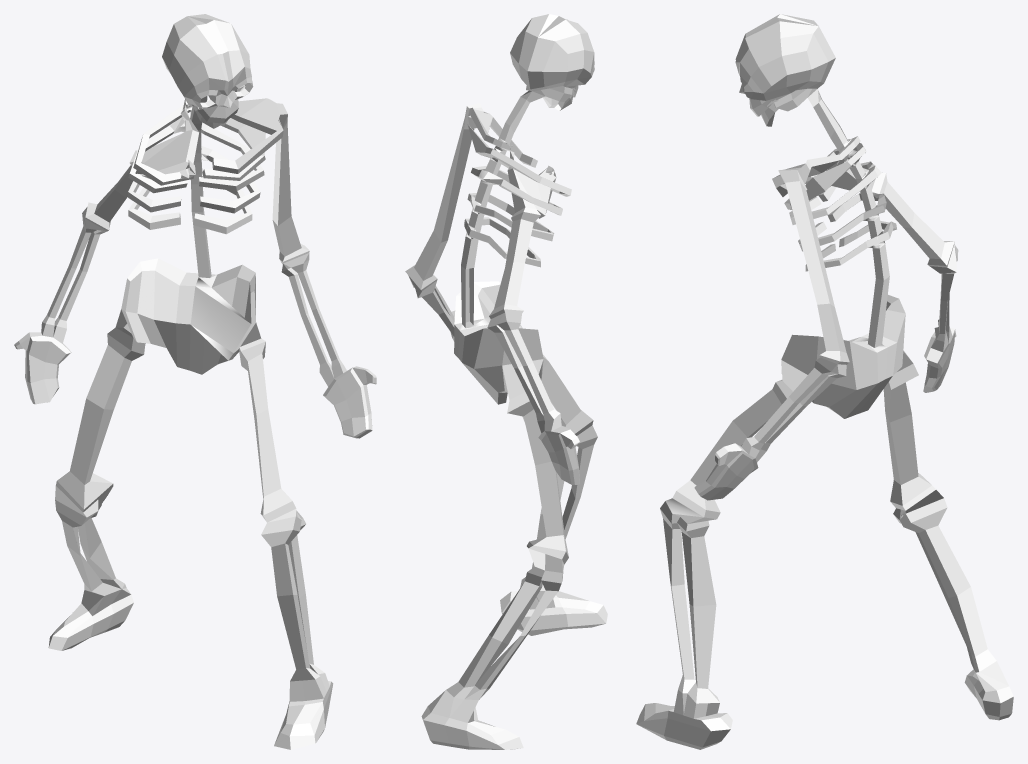
Rendered from SkeletonIdle(103).obj.
The picture shows the model from 3 angles, left to right: view 1: azimuth 30°, elevation 25°; view 2: azimuth 150°, elevation 25°; view 3: azimuth 270°, elevation 25°; orthographic projection. The views are drawn at different scales.
Parts seen in each view (by area): view 1: Object002; view 2: Object002; view 3: Object002.
Part boxes in pixels (box(x1,y1,x2,y2)): Object002: box(14, 14, 376, 749); Object002: box(405, 14, 607, 749); Object002: box(636, 14, 1013, 749).
Size of the model in its own units: 425 by 1124 by 554.
